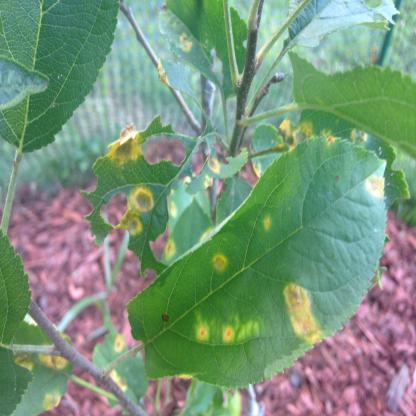Apple rust leaf: (127, 132, 400, 402)
